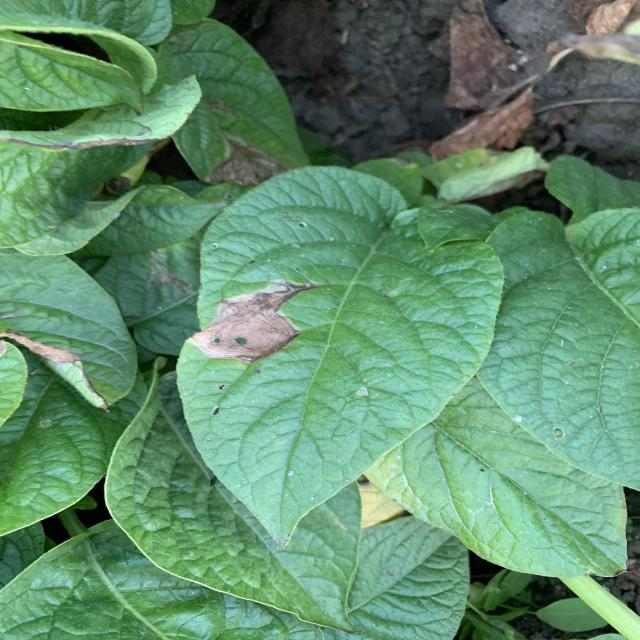lateblight: (190, 280, 323, 364), (207, 140, 288, 185)
